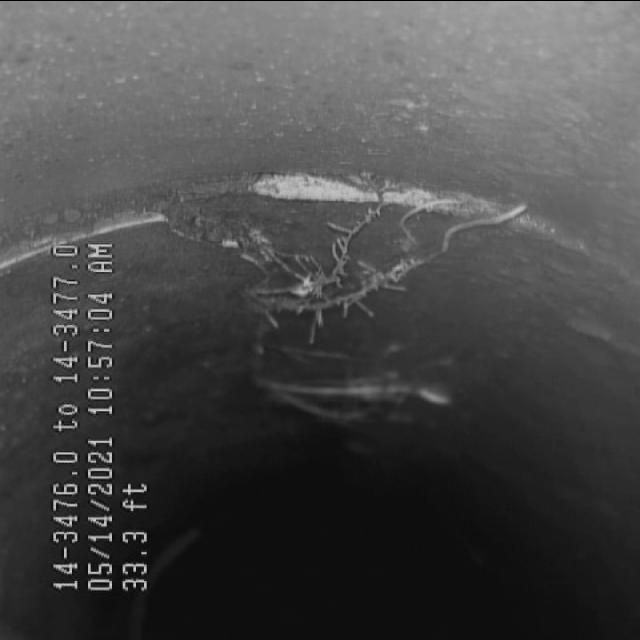Crack: (184, 142, 490, 388)
